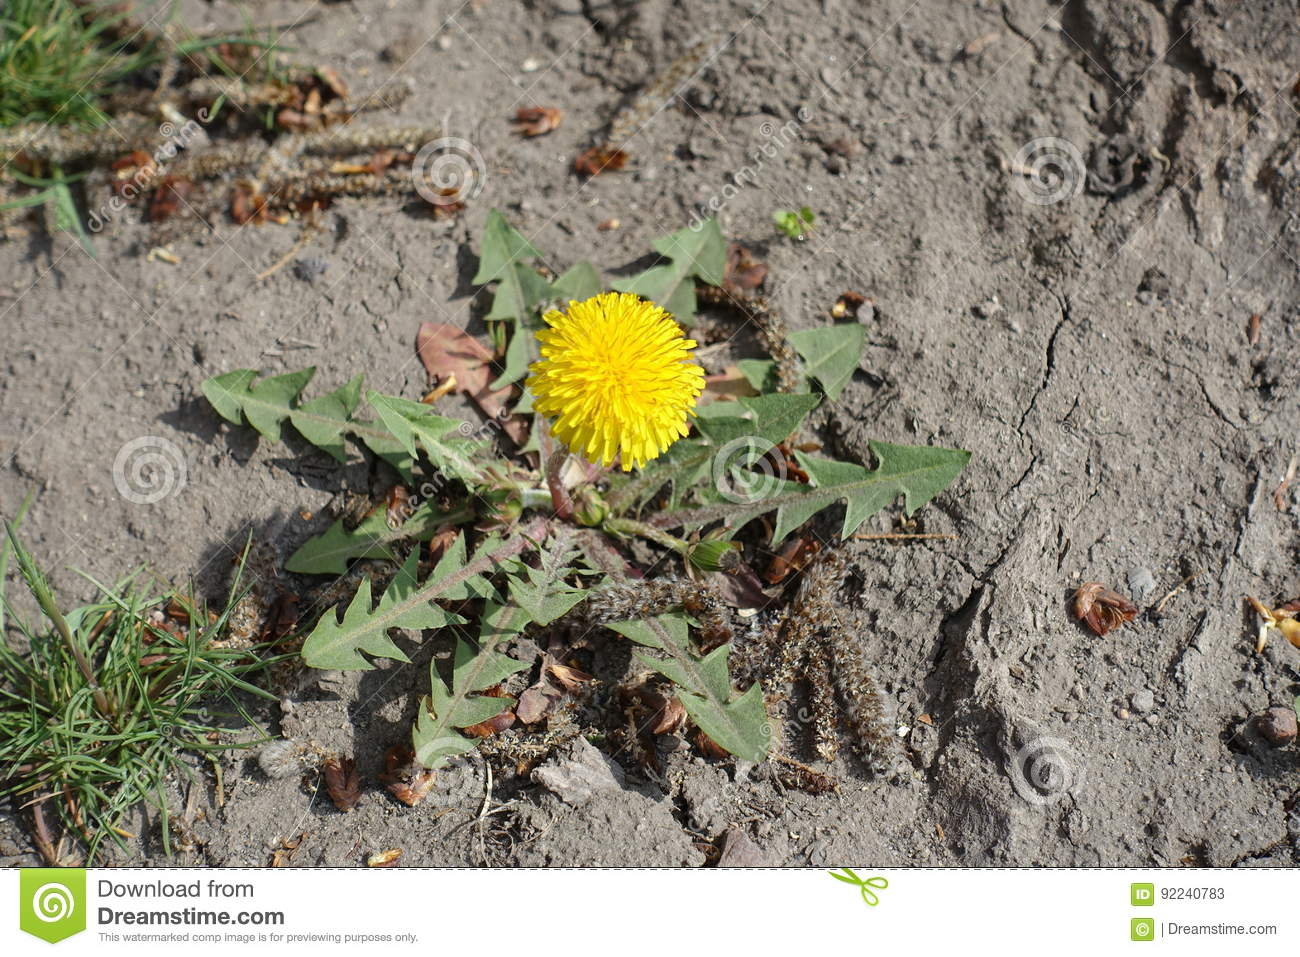dandelion: (541, 303, 685, 455)
